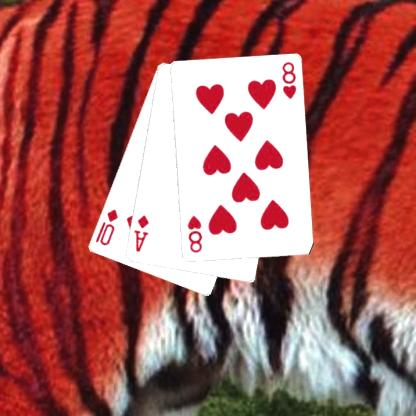10D: (94, 207, 121, 247)
8H: (187, 213, 205, 255), (281, 60, 299, 100)
AD: (133, 213, 151, 253)
